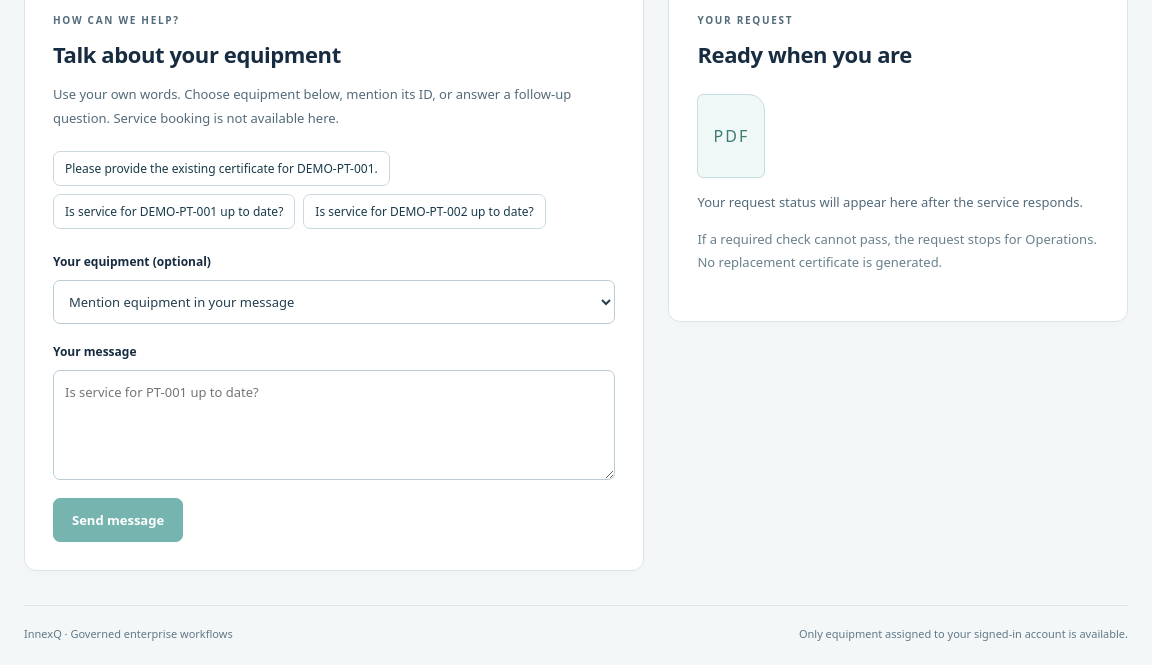
Test: CustomerPortal › renders response markup as text and rejects unassigned equipment proposals
This screenshot has width=1152, height=665.
(page scrolled)
Type "Please send my existing certificate." into the text box labelled "Your message". click: (334, 425)
box: [53,370,615,480]
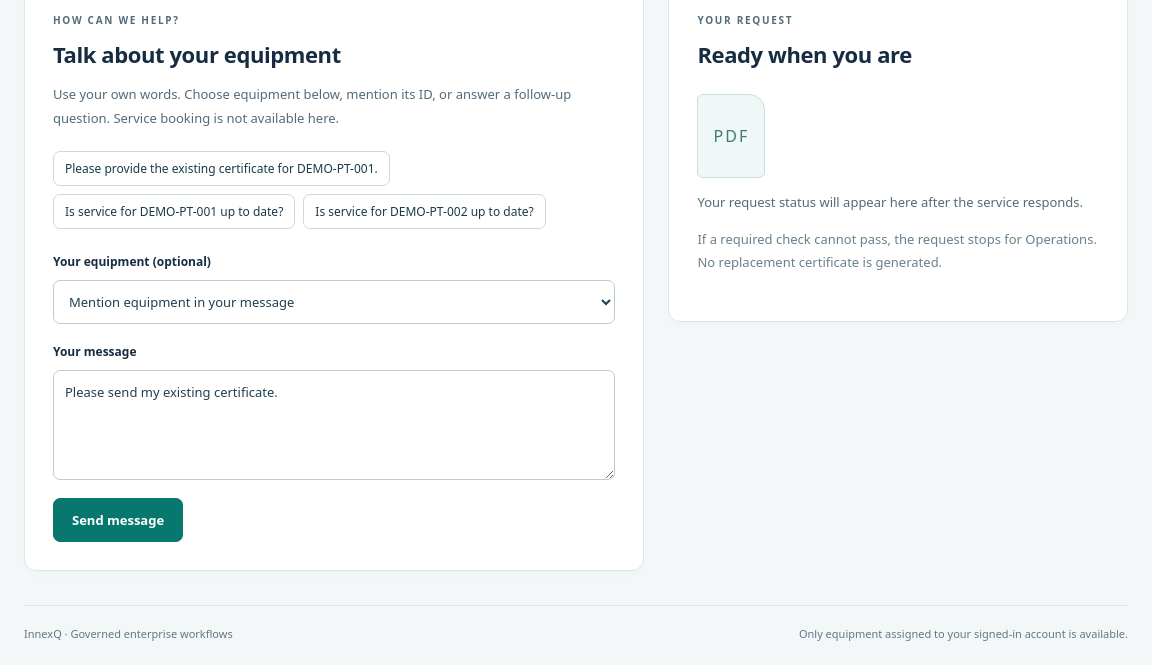
Click the button "Send message". click: (118, 520)
box: [53,498,183,542]
(page scrolled)
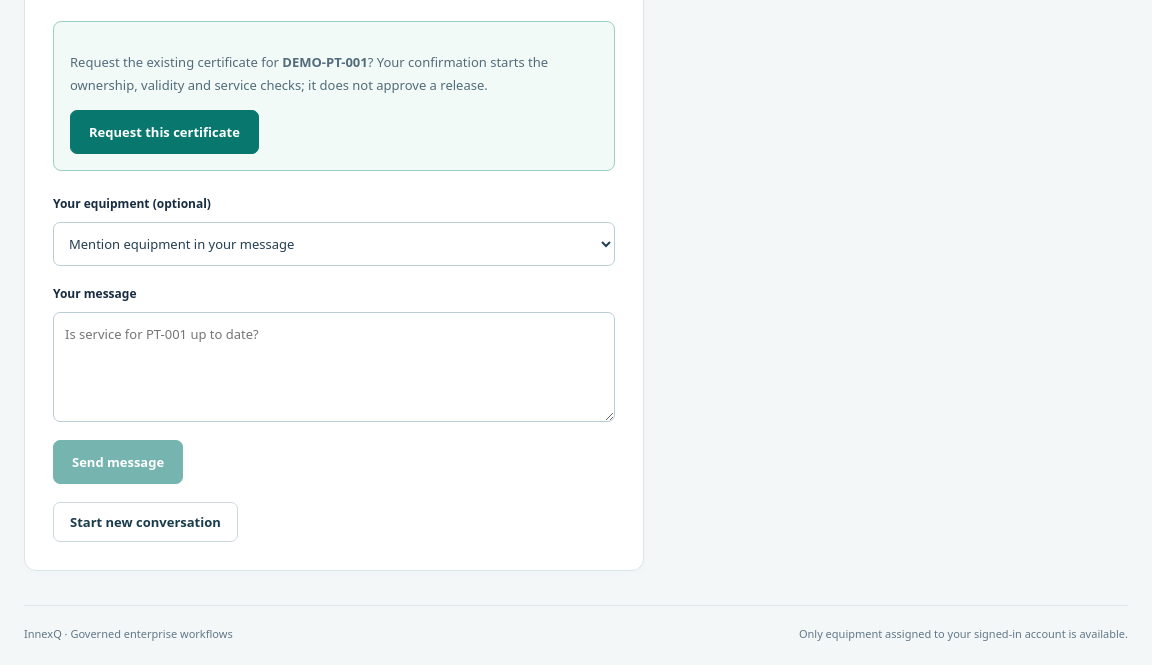
Type "Please send my existing certificate." into the text box labelled "Your message". click: (334, 368)
box: [53,312,615,422]
(page scrolled)
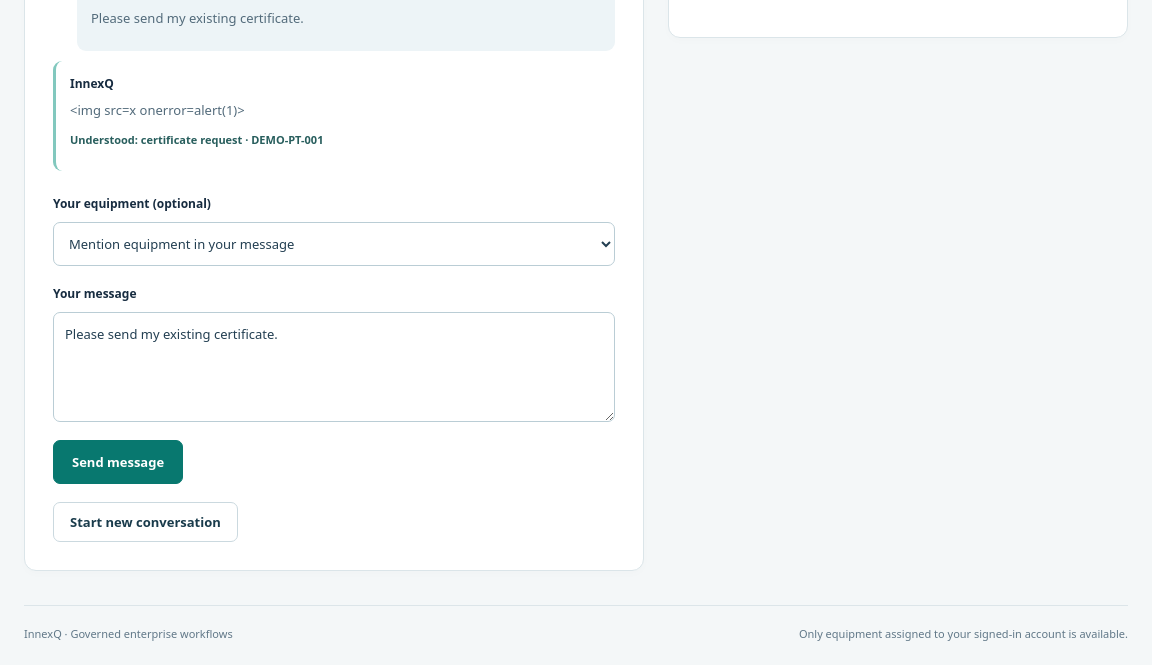
Click the button "Send message". click: (118, 462)
box: [53,440,183,484]
(page scrolled)
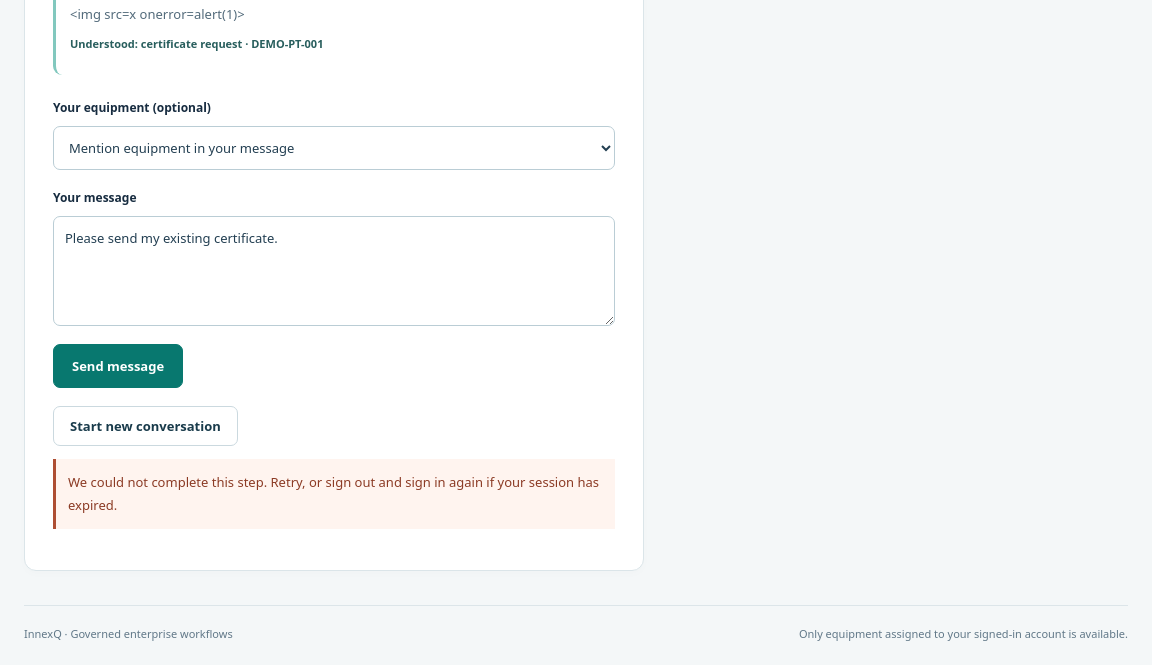
Check: the button "Request this certificate" is not shown
Check: the message is shown, box [53,459,615,530]
